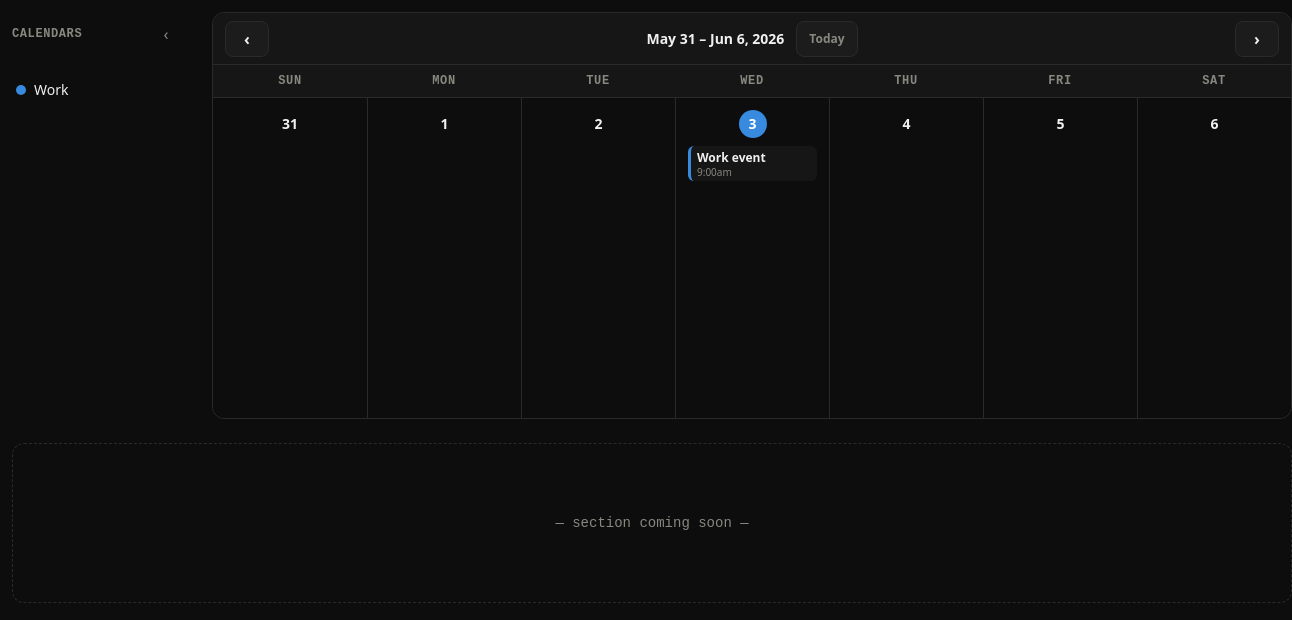
Scenario: calendar filter › hides events from a toggled-off calendar
Check: the text "Work event" is shown, box [697, 149, 766, 166]
Click the button "Work": (100, 90) [12, 68, 188, 112]
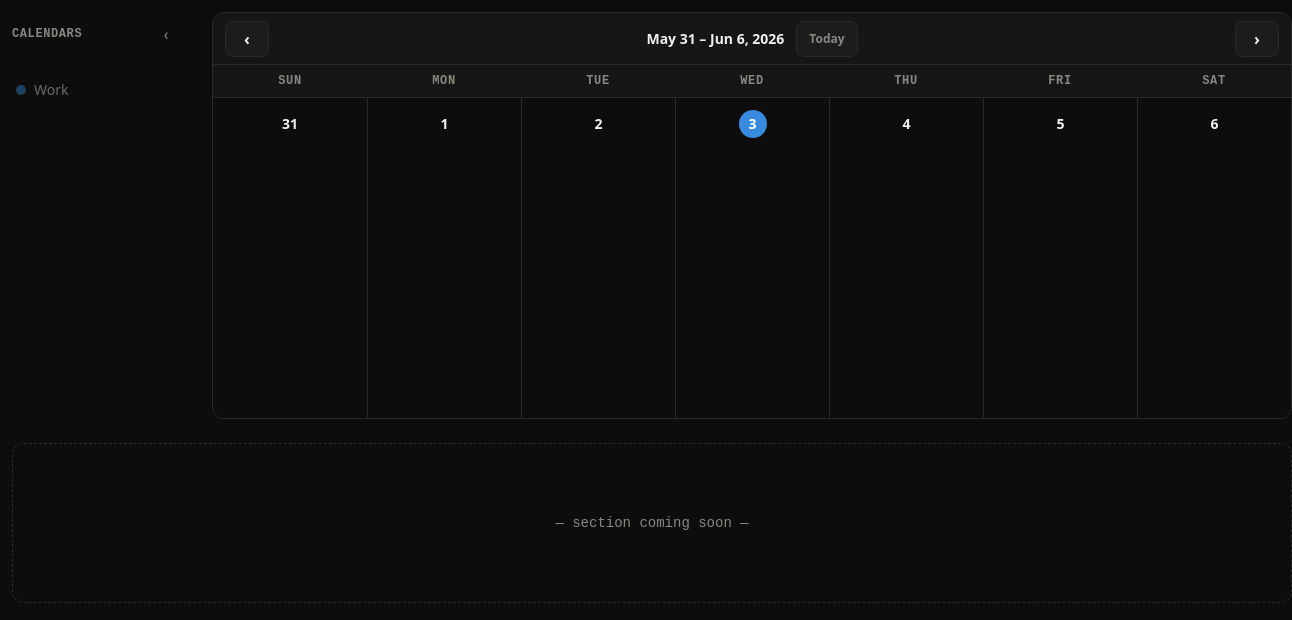
Check: the text "Work event" is gone
